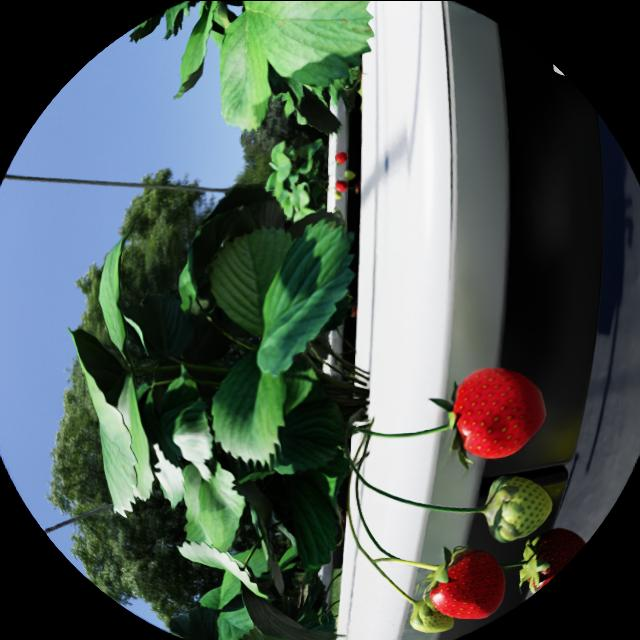Fruit-Stem-Detection: (355, 468, 485, 512), (349, 517, 414, 604), (358, 424, 451, 437), (373, 557, 438, 570)
